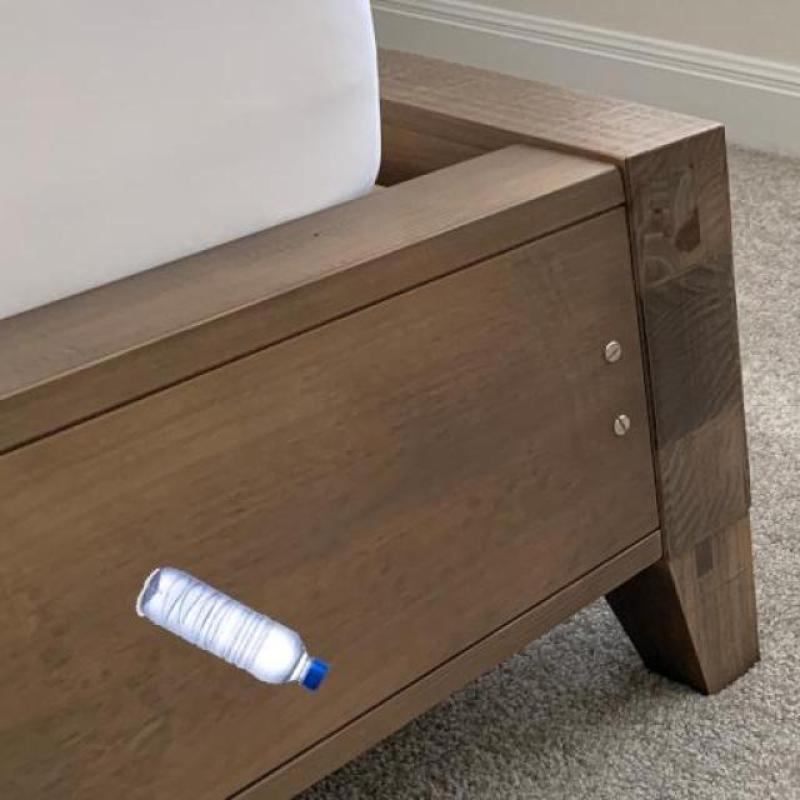botella: (136, 564, 332, 693)
